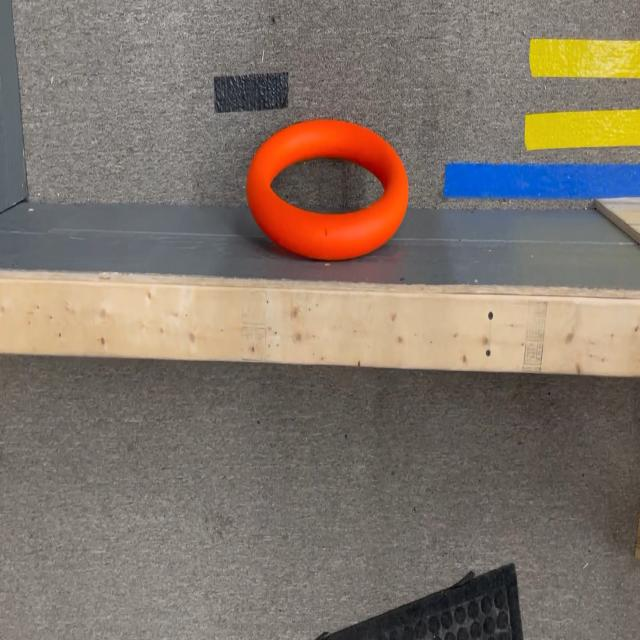note: (246, 119, 409, 260)
